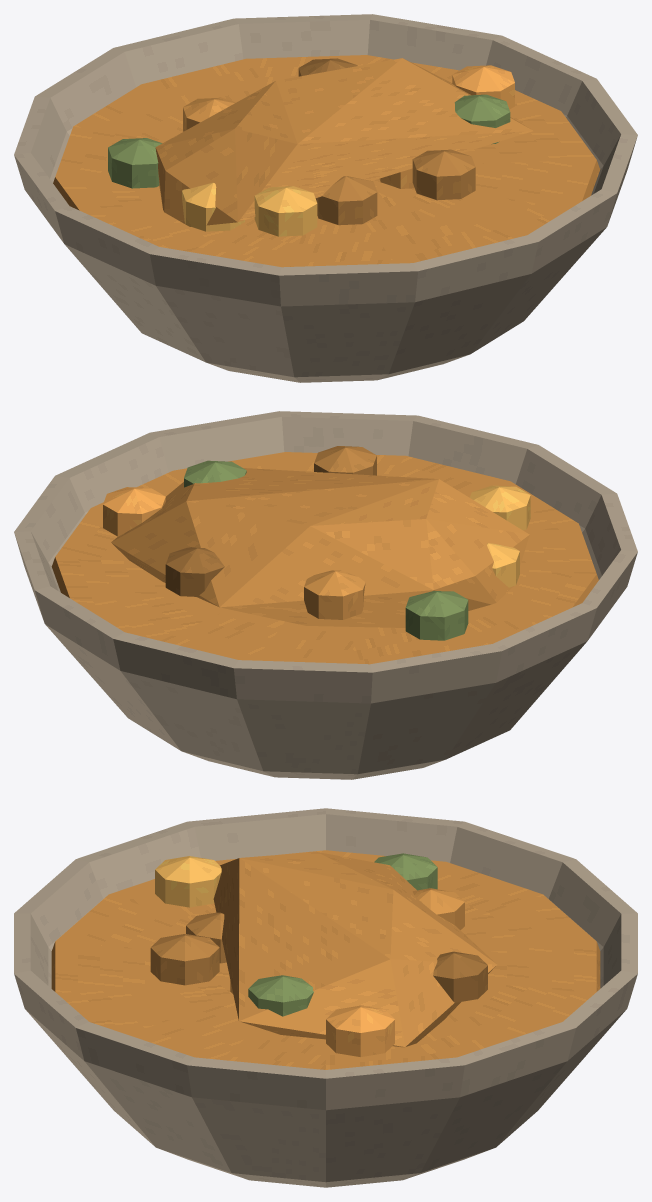
Rendered from cooked_pumpkin.glb.
The picture shows the model from 3 angles, top to bottom: view 1: azimuth 30°, elevation 25°; view 2: azimuth 150°, elevation 25°; view 3: azimuth 270°, elevation 25°; orthographic projection. The views are drawn at different scales.
Visible parts, largest first — view 1: block_earthenware bowl, block_meal in bowl, block_mashed pumpkin mound, block_pieces in cooked dish (×9); view 2: block_earthenware bowl, block_mashed pumpkin mound, block_meal in bowl, block_pieces in cooked dish (×8); view 3: block_earthenware bowl, block_meal in bowl, block_mashed pumpkin mound, block_pieces in cooked dish (×8).
Boxes of the visible parts, left/top/right/bottom form: block_earthenware bowl: left=14, top=14, right=637, bottom=382; block_meal in bowl: left=53, top=55, right=600, bottom=267; block_mashed pumpkin mound: left=155, top=58, right=533, bottom=226; block_pieces in cooked dish (×9): left=108, top=58, right=514, bottom=236; block_earthenware bowl: left=14, top=411, right=637, bottom=779; block_mashed pumpkin mound: left=111, top=468, right=529, bottom=627; block_meal in bowl: left=51, top=452, right=598, bottom=664; block_pieces in cooked dish (×8): left=103, top=446, right=530, bottom=640; block_earthenware bowl: left=14, top=808, right=637, bottom=1187; block_meal in bowl: left=51, top=850, right=600, bottom=1069; block_mashed pumpkin mound: left=213, top=852, right=497, bottom=1047; block_pieces in cooked dish (×8): left=150, top=853, right=487, bottom=1056.
Bounding box in the file's own units: 0.1203 × 0.0456 × 0.1173.
1 material, 1 textured.
